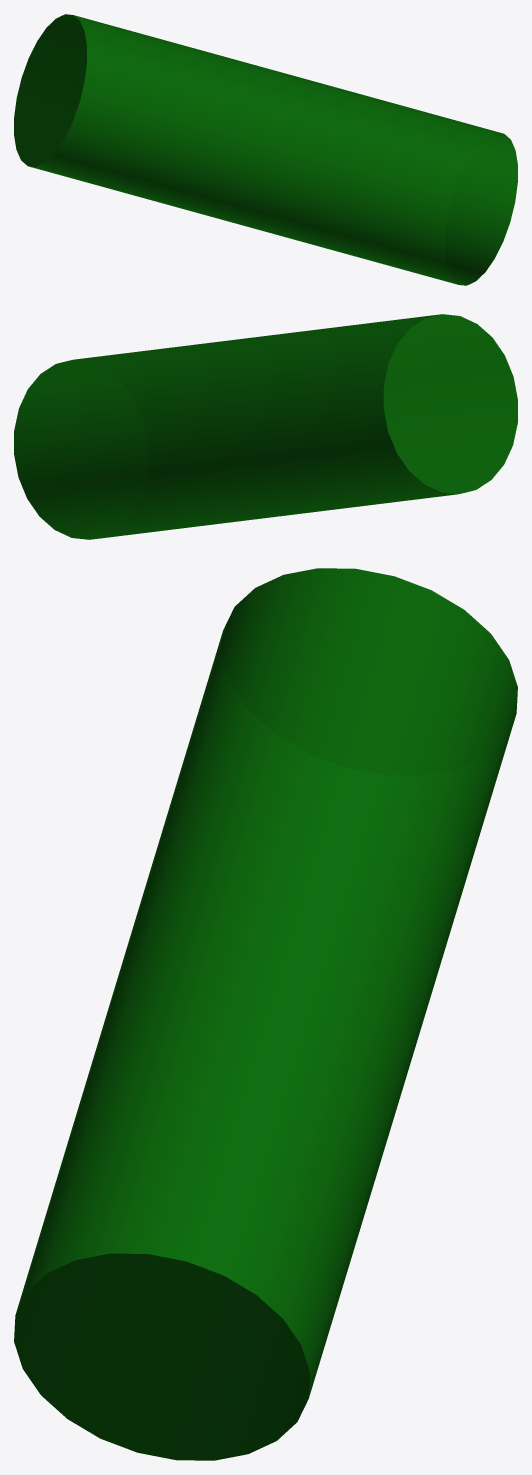
Rendered from Event_191826238_jet_9.fbx.
The picture shows the model from 3 angles, top to bottom: view 1: azimuth 30°, elevation 25°; view 2: azimuth 150°, elevation 25°; view 3: azimuth 270°, elevation 25°; orthographic projection. The views are drawn at different scales.
Parts seen in each view (by area): view 1: Model; view 2: Model; view 3: Model.
Part boxes in pixels (bbox=[...]): Model: bbox=[14, 14, 517, 285]; Model: bbox=[14, 314, 517, 539]; Model: bbox=[14, 568, 517, 1460].
Bounding box in the file's own units: 0.128 × 0.0847 × 0.0661.
